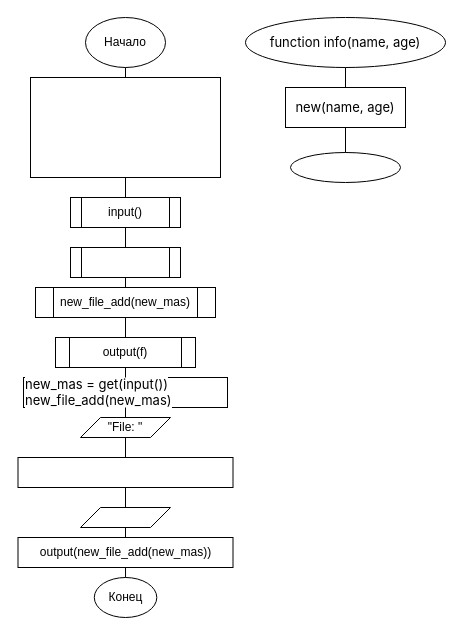
The diagram is 463 pixels wide and 635 high, and some of its shapes have lost their labels. The centre of each missing label's shape, as x and y in pixels:
"New file: ": point (125, 517)
get(mas): point (125, 262)
mutable struct info name::String age::Int info(name, age) end: point (125, 127)
output(open("data.txt"), "r'): point (125, 472)
return: point (345, 167)
